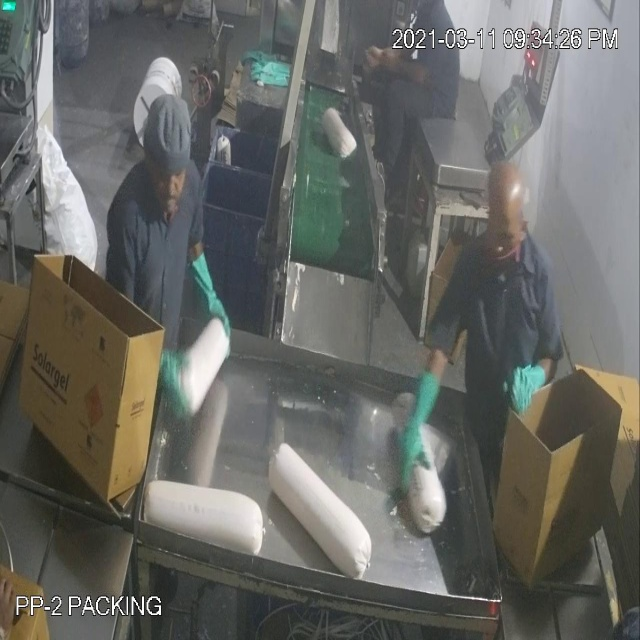Guantes: (386, 357, 440, 493), (507, 340, 548, 425)
Sin_guantes: (369, 36, 429, 92)
